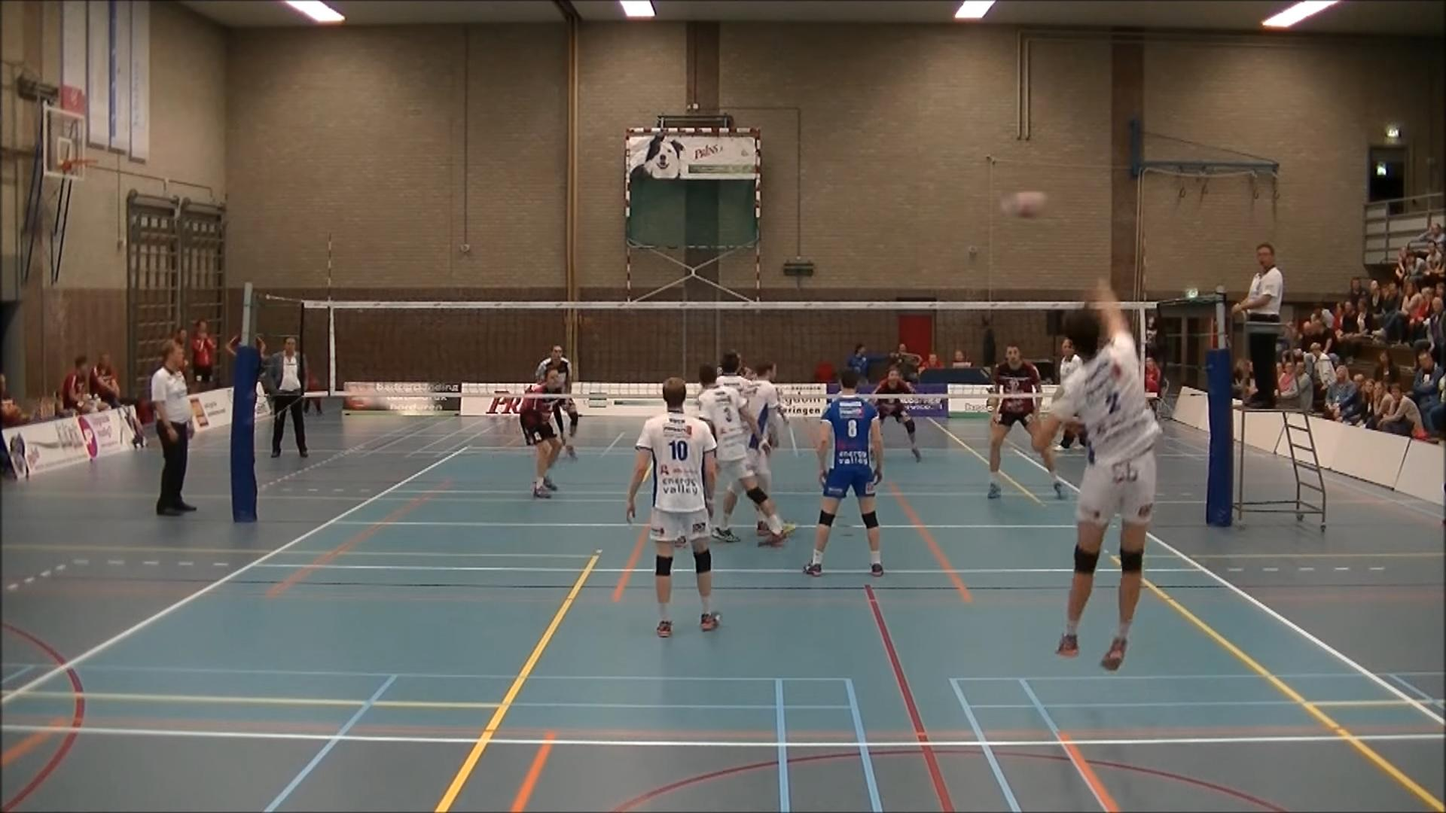battuta: (1028, 268, 1170, 684)
